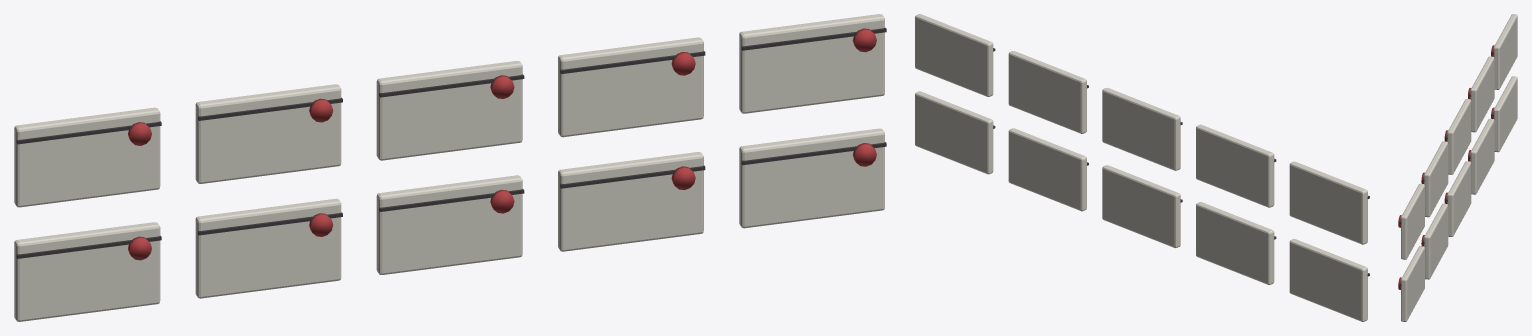
Rendered from envelopes.glb.
3 views of the same model, side by side, from view 1: azimuth 30°, elevation 25°; view 2: azimuth 150°, elevation 25°; view 3: azimuth 270°, elevation 25° (orthographic). The views are drawn at different scales.
Visible parts, largest first — view 1: mta_env_0_card, mta_env_2_card, mta_env_6_card, mta_env_1_card, mta_env_5_card, mta_env_7_card, mta_env_3_card, mta_env_9_card, mta_env_8_card, mta_env_4_card, mta_env_4_flap, mta_env_8_flap (+8 smaller); view 2: mta_env_0_card, mta_env_8_card, mta_env_9_card, mta_env_4_card, mta_env_7_card, mta_env_2_card, mta_env_3_card, mta_env_5_card, mta_env_1_card, mta_env_6_card; view 3: mta_env_8_card, mta_env_1_card, mta_env_3_card, mta_env_6_card, mta_env_7_card, mta_env_0_card, mta_env_2_card, mta_env_5_card, mta_env_4_card, mta_env_9_card.
Part boxes in pixels (x1,y1,x2,y2): mta_env_0_card: (14,107,160,207); mta_env_2_card: (376,61,522,160); mta_env_6_card: (195,198,341,298); mta_env_1_card: (195,84,341,183); mta_env_5_card: (14,222,160,321); mta_env_7_card: (376,175,522,274); mta_env_3_card: (558,37,703,137); mta_env_9_card: (739,128,884,228); mta_env_8_card: (558,152,703,251); mta_env_4_card: (739,14,884,113); mta_env_4_flap: (741,27,886,50); mta_env_8_flap: (560,165,705,188); mta_env_0_card: (1289,161,1367,244); mta_env_8_card: (1008,128,1086,211); mta_env_9_card: (915,91,993,174); mta_env_4_card: (915,14,993,96); mta_env_7_card: (1102,165,1180,248); mta_env_2_card: (1102,87,1180,170); mta_env_3_card: (1008,51,1086,133); mta_env_5_card: (1289,239,1367,321); mta_env_1_card: (1196,124,1274,207); mta_env_6_card: (1196,202,1274,284); mta_env_8_card: (1424,203,1448,279); mta_env_1_card: (1470,56,1494,132); mta_env_3_card: (1424,141,1448,217); mta_env_6_card: (1470,118,1494,194); mta_env_7_card: (1447,161,1471,236); mta_env_0_card: (1493,14,1517,89); mta_env_2_card: (1447,99,1471,174); mta_env_5_card: (1493,76,1517,152); mta_env_4_card: (1401,183,1424,259); mta_env_9_card: (1401,246,1424,321).
Bounding box in the file's own units: 0.3655 × 0.088 × 0.0904.
